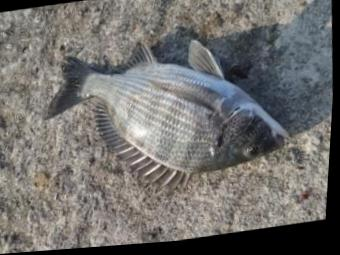fish: (49, 42, 291, 196)
